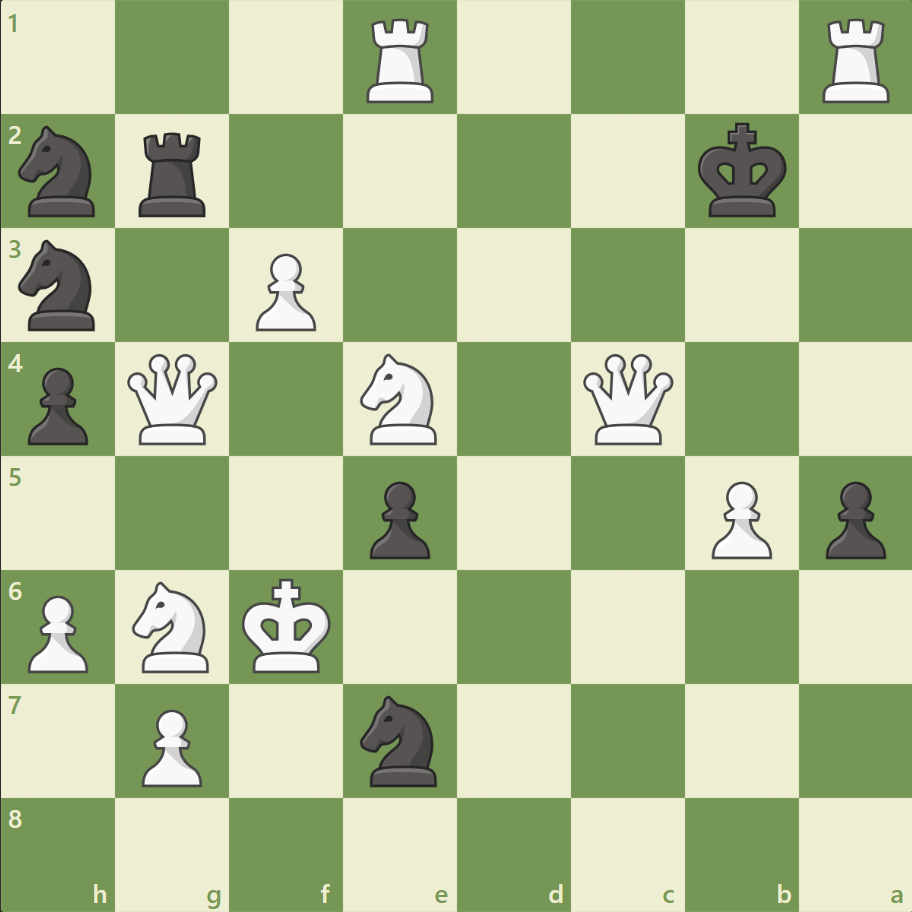K: (238, 571, 338, 679)
N: (124, 575, 222, 677), (351, 348, 449, 450)
P: (133, 700, 208, 791), (20, 586, 95, 677), (701, 473, 776, 564), (247, 246, 322, 337)
Q: (578, 349, 677, 449), (124, 349, 223, 449)
R: (814, 12, 897, 109), (360, 12, 442, 109)
k: (692, 117, 792, 225)
n: (351, 688, 449, 791), (11, 234, 108, 337), (11, 121, 108, 223)
p: (20, 359, 95, 450), (815, 473, 889, 564), (361, 473, 435, 564)
r: (133, 125, 215, 222)
